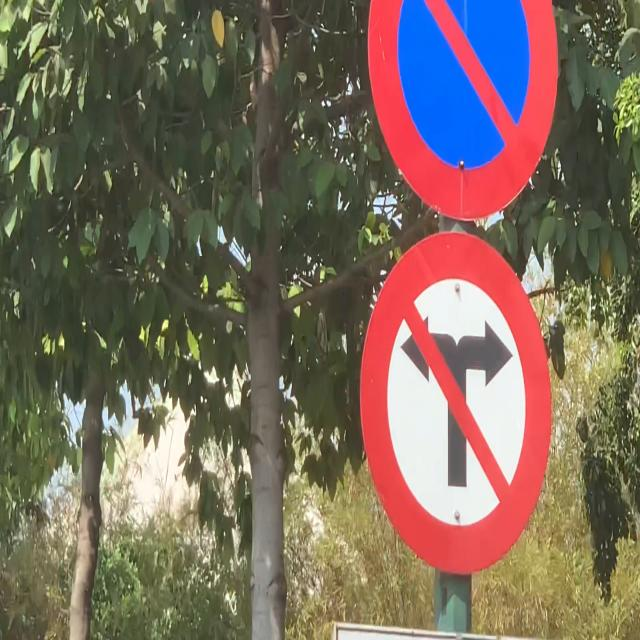Cam con lai: (347, 220, 564, 578)
Cam do: (354, 0, 566, 222)
